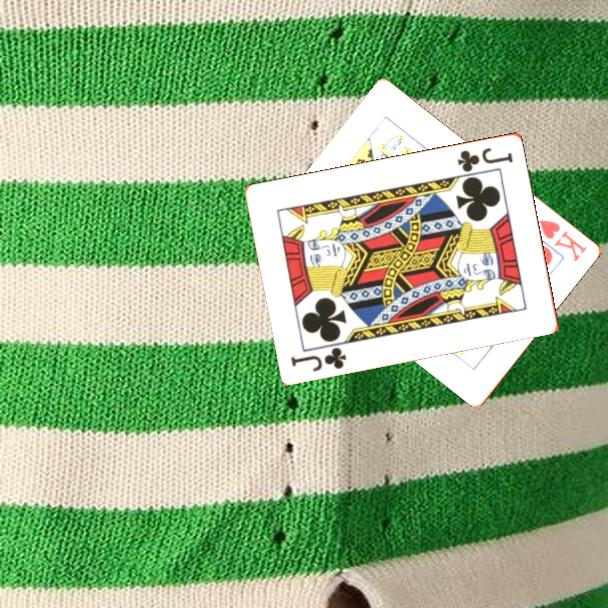c11: (454, 143, 516, 174), (288, 343, 350, 374)
h13: (536, 216, 590, 265)
